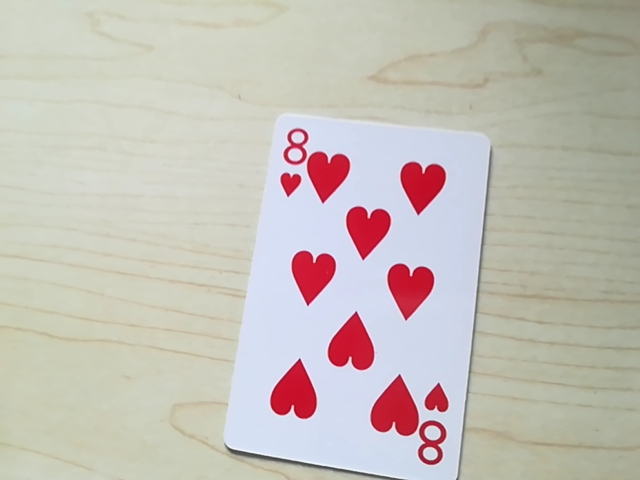hx 8: (409, 400, 455, 476), (276, 120, 316, 168)
